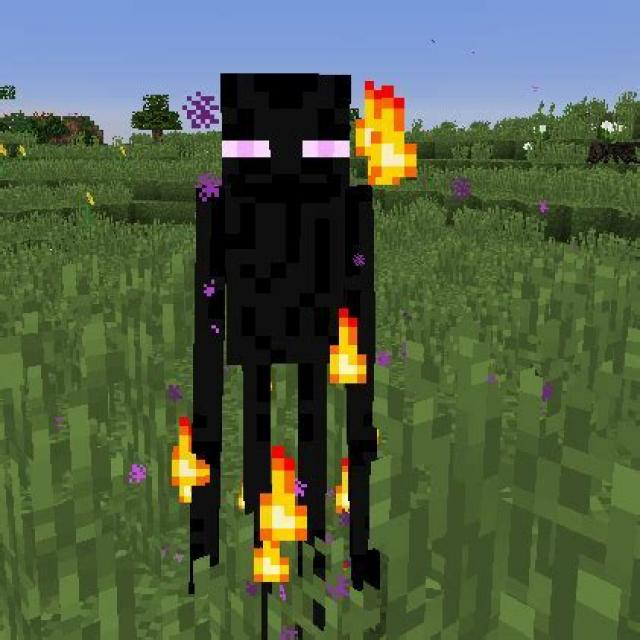Enderman: (181, 58, 400, 640)
